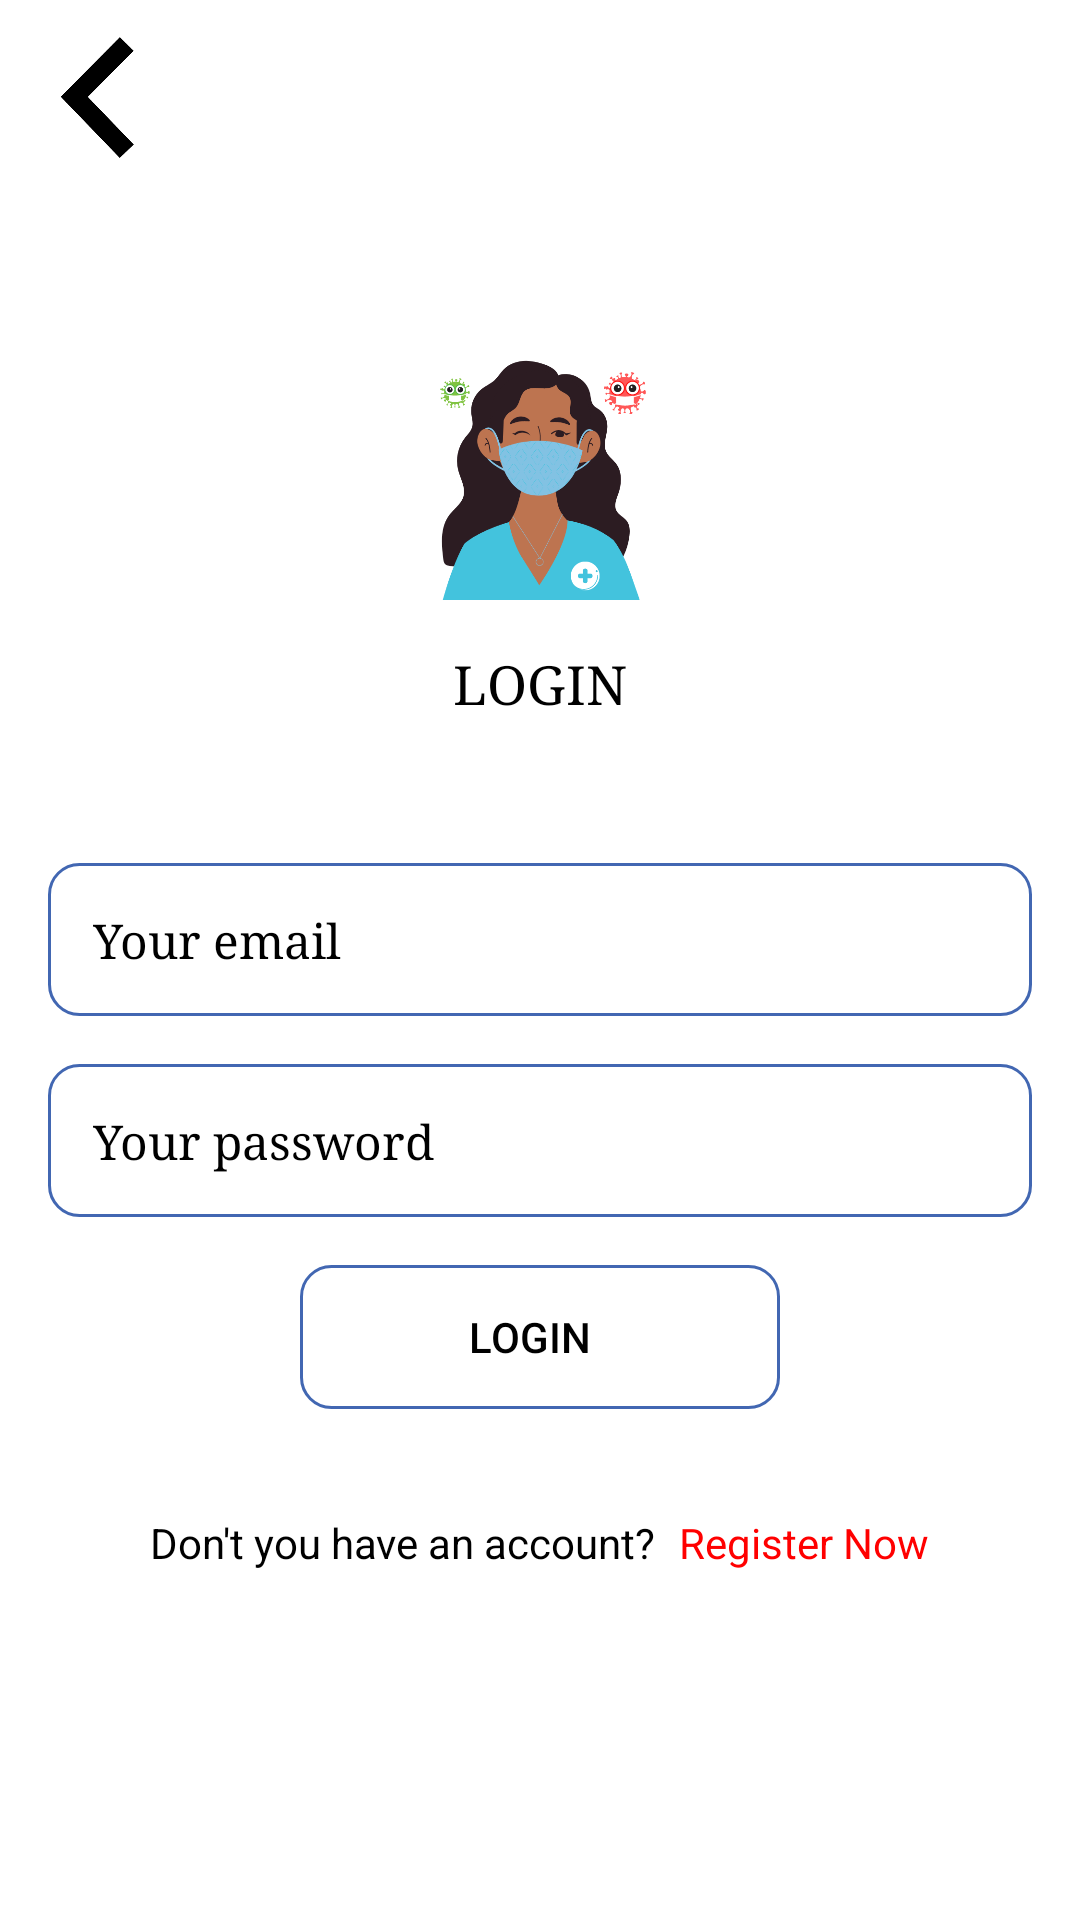

Where to tap for icons on this 1080 x 1920 app screen, as point (x, y):
back: point (97, 97)
